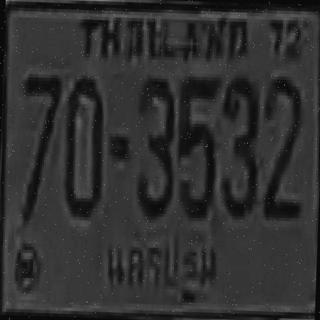N00: (62, 74, 104, 216)
N02: (261, 72, 302, 215)
N03: (134, 74, 176, 217), (218, 74, 259, 217)
N05: (174, 73, 218, 218)
N07: (18, 72, 60, 220)
P28: (99, 223, 222, 307)
